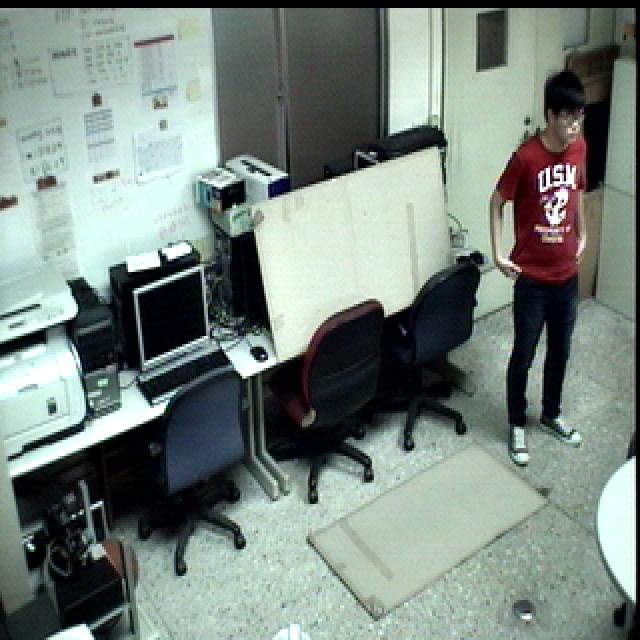stand: (480, 61, 606, 474)
